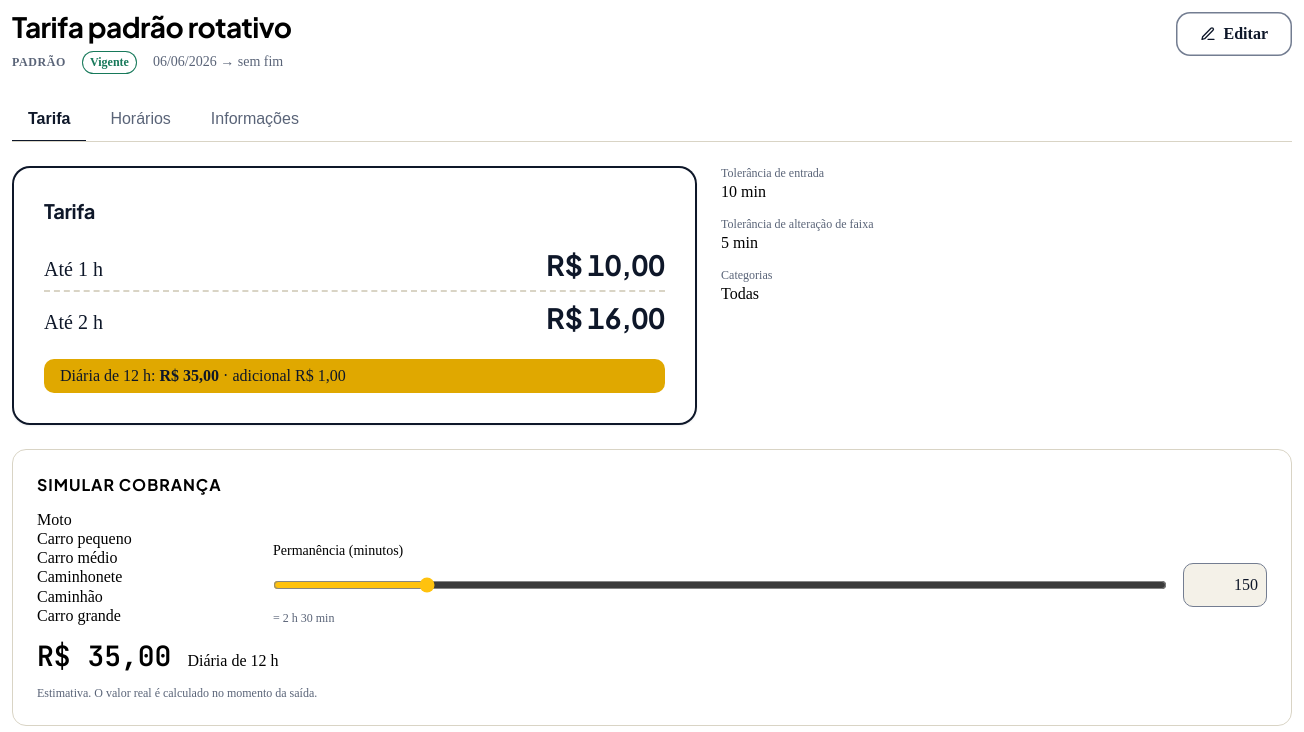
Test case: PrecoDetalhe: abas › Horários mostra a semana inteira
Click the tab "Horários" at (141, 120), box [94,98,187,142]
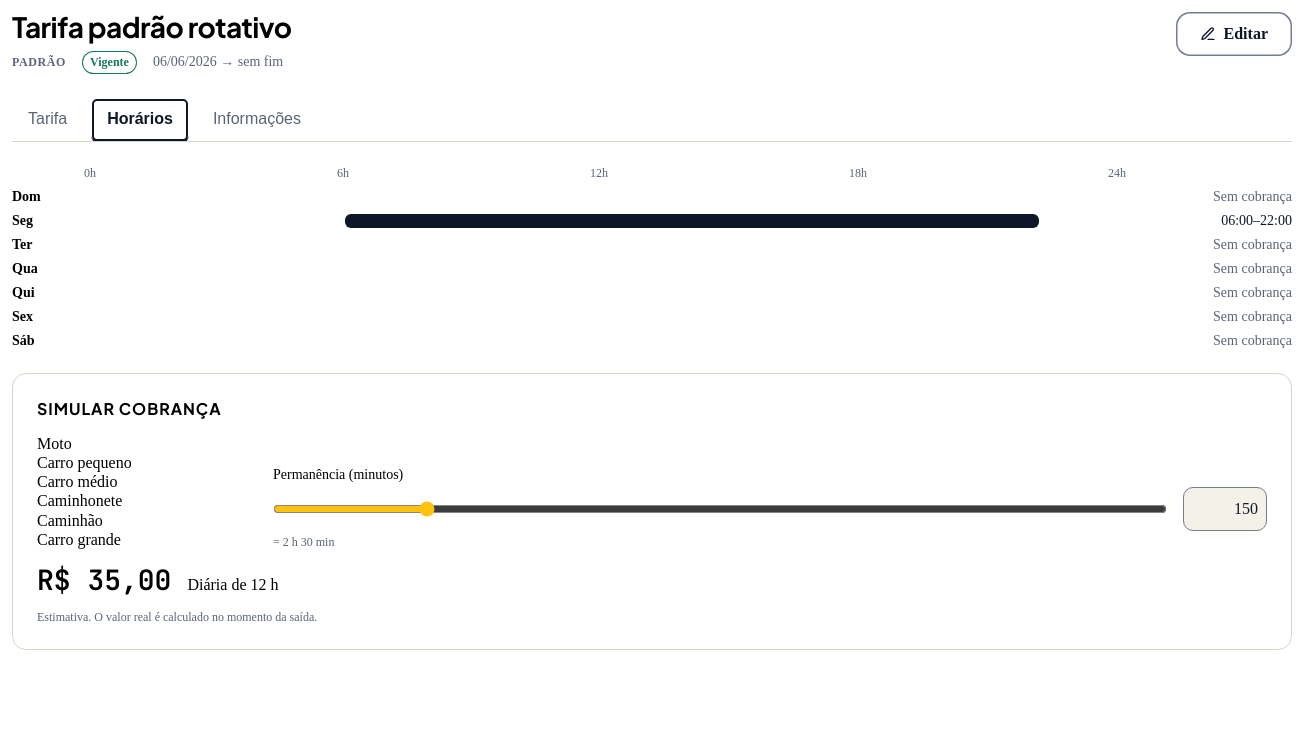
Now the list named "Horários de cobrança por dia da semana" is shown, box [12,189,1292,349]
Now the text "06:00–22:00" is shown, box [1221,213,1292,228]
Now the text "Sem cobrança" is shown 6 times, box [1213,189,1292,204]; [1213,237,1292,252]; [1213,261,1292,276]; [1213,285,1292,300]; [1213,309,1292,324]; [1213,333,1292,348]
